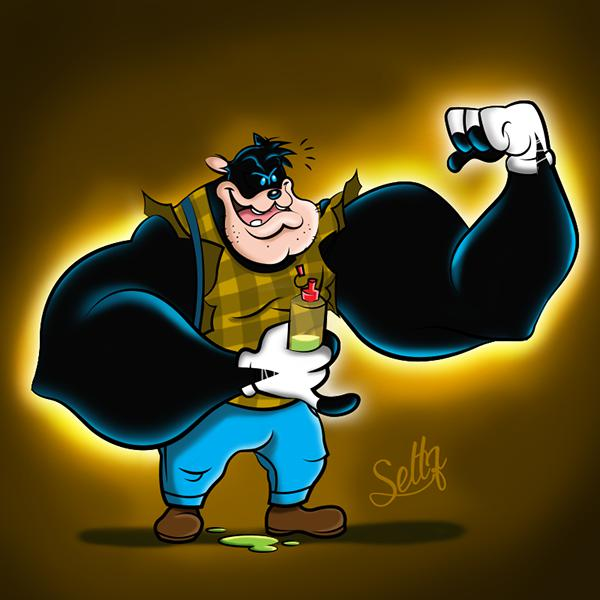dog: (27, 89, 583, 558)
